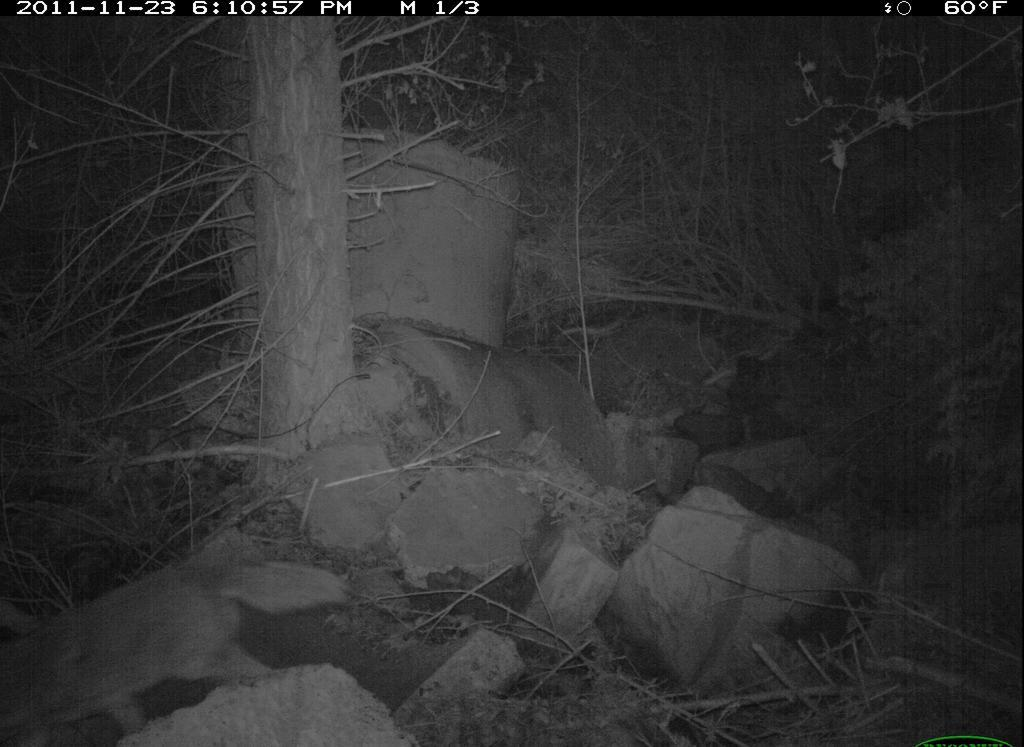coyote: (6, 546, 354, 745)
